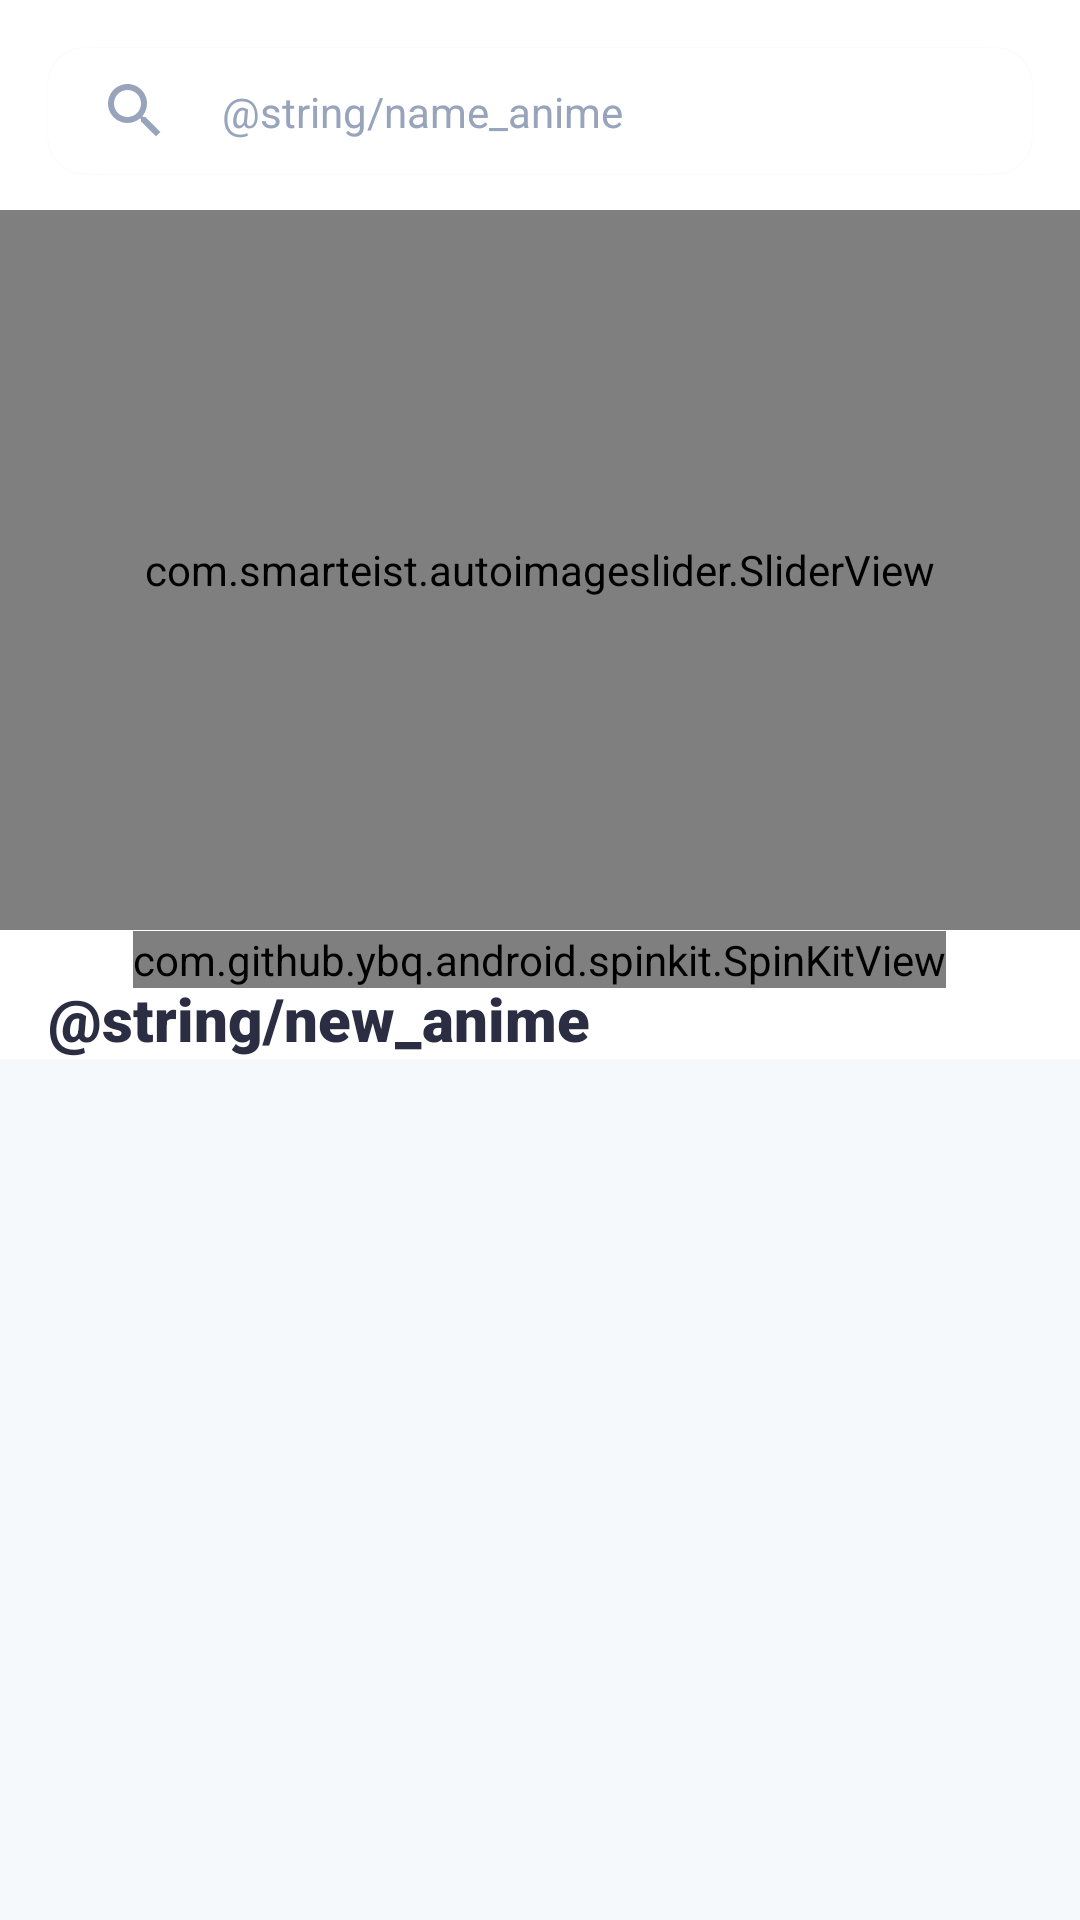

Icon click points for this 1080×1920 phone screenshot, format (x,y):
search: (134,110)
